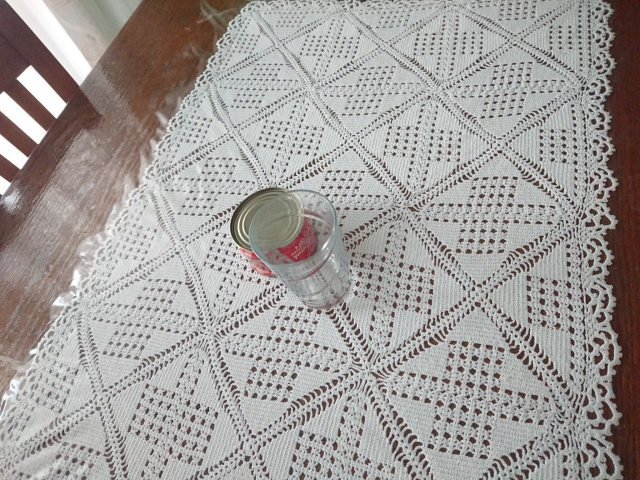Podravka Luncheon Meat 150g: (228, 184, 321, 280)
